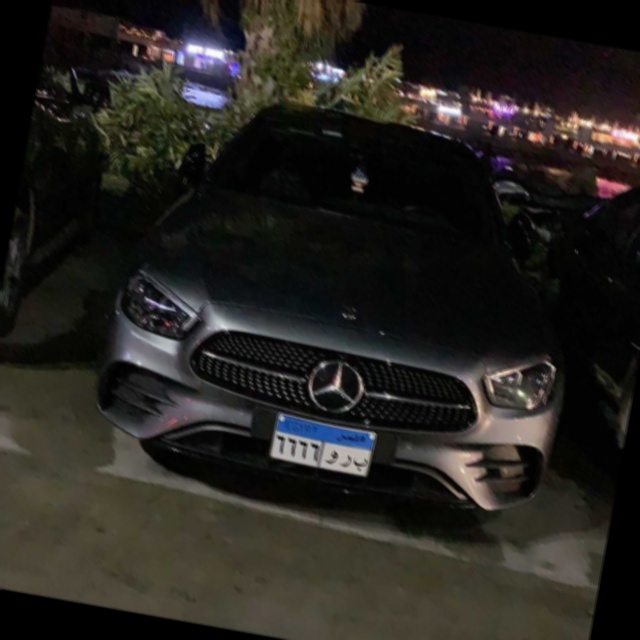License Plate: (267, 410, 375, 478)
